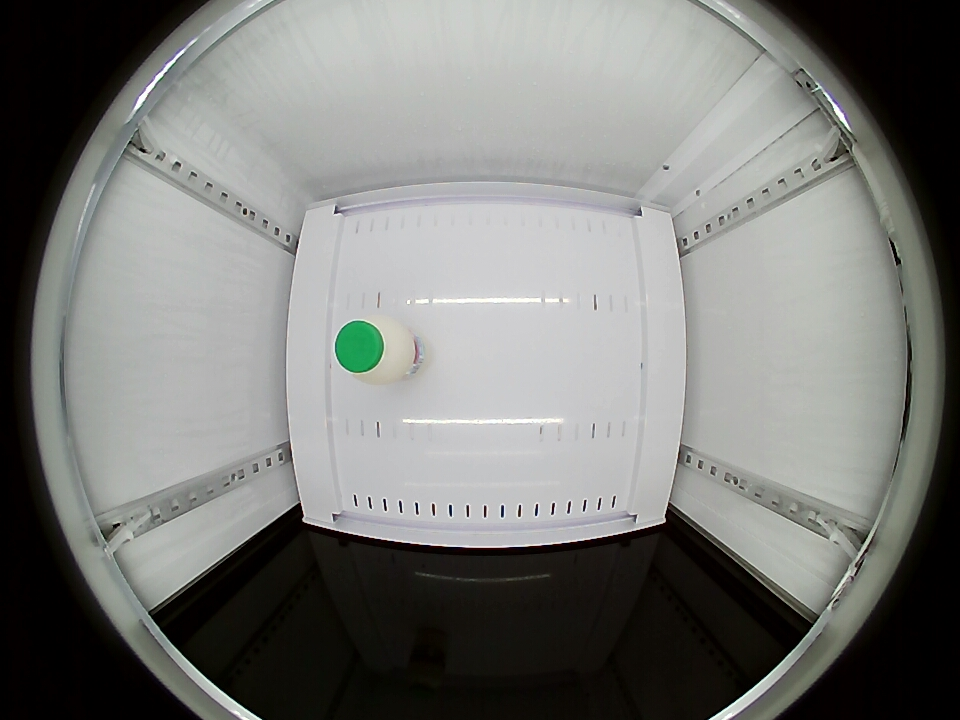liziyuan: (335, 314, 415, 384)
